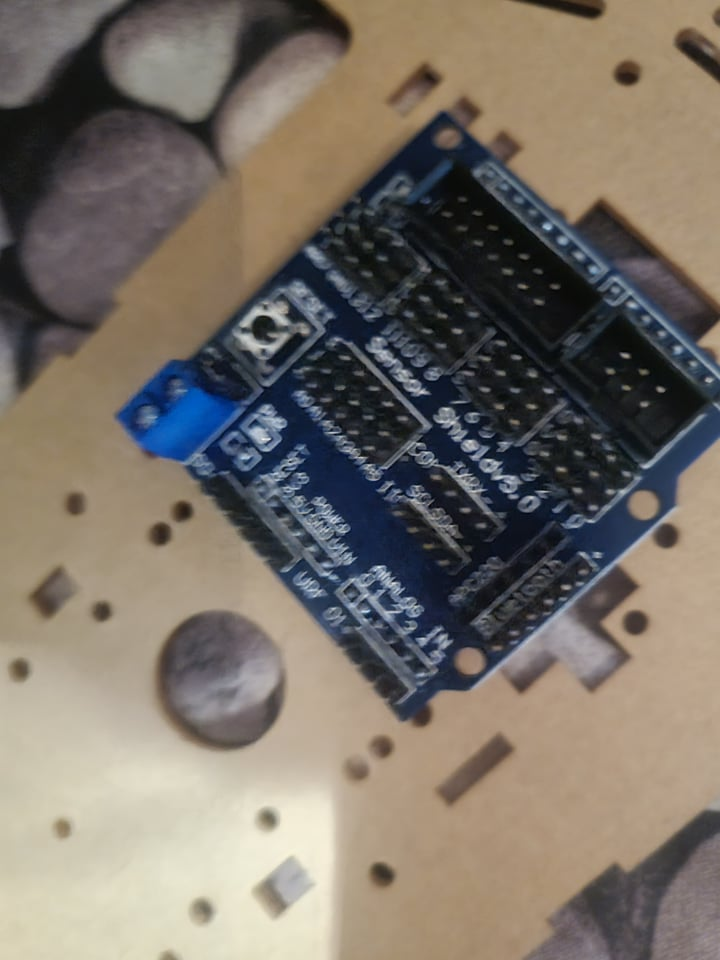5V EXPANSION: (110, 113, 720, 722)
